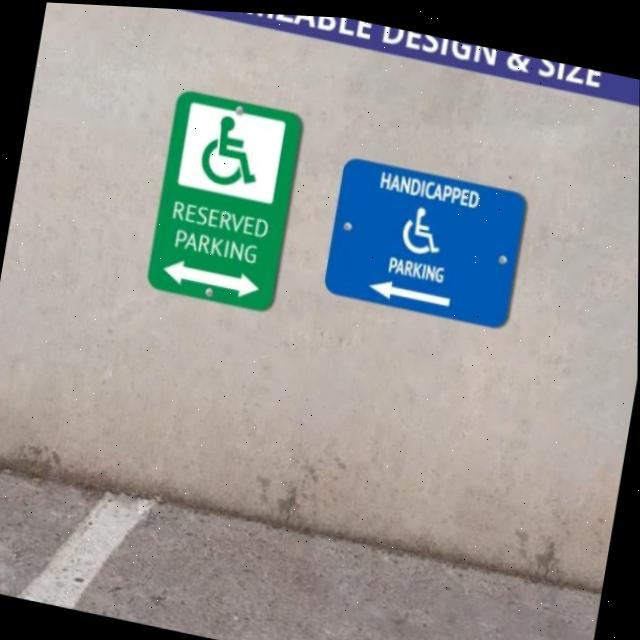symbol_of_access: (194, 107, 274, 197), (396, 195, 450, 260)
